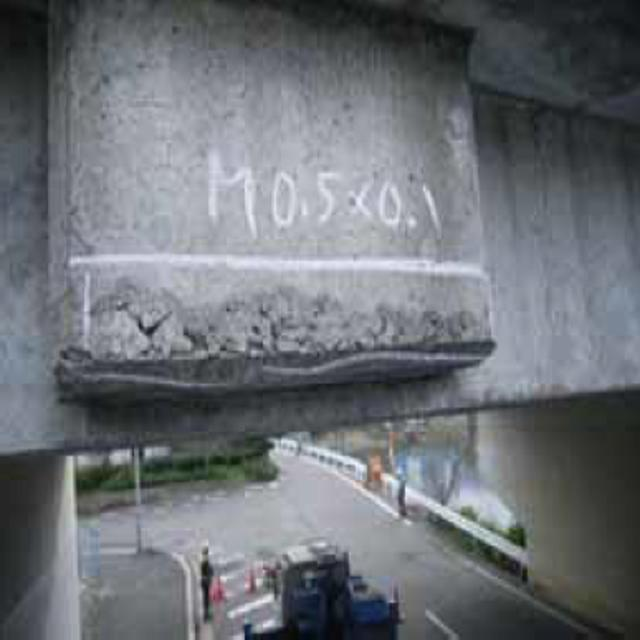spalling: (66, 280, 480, 387)
